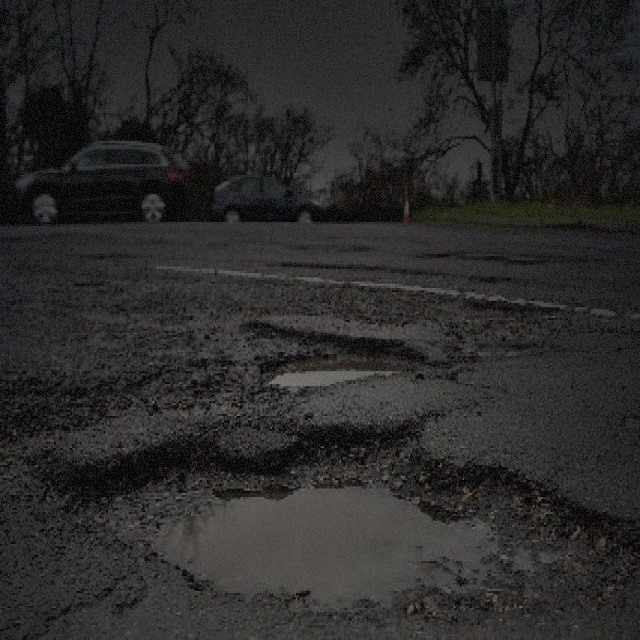pothole: (62, 418, 636, 621), (244, 316, 428, 392), (0, 373, 105, 448), (422, 246, 544, 264), (469, 294, 559, 318)
